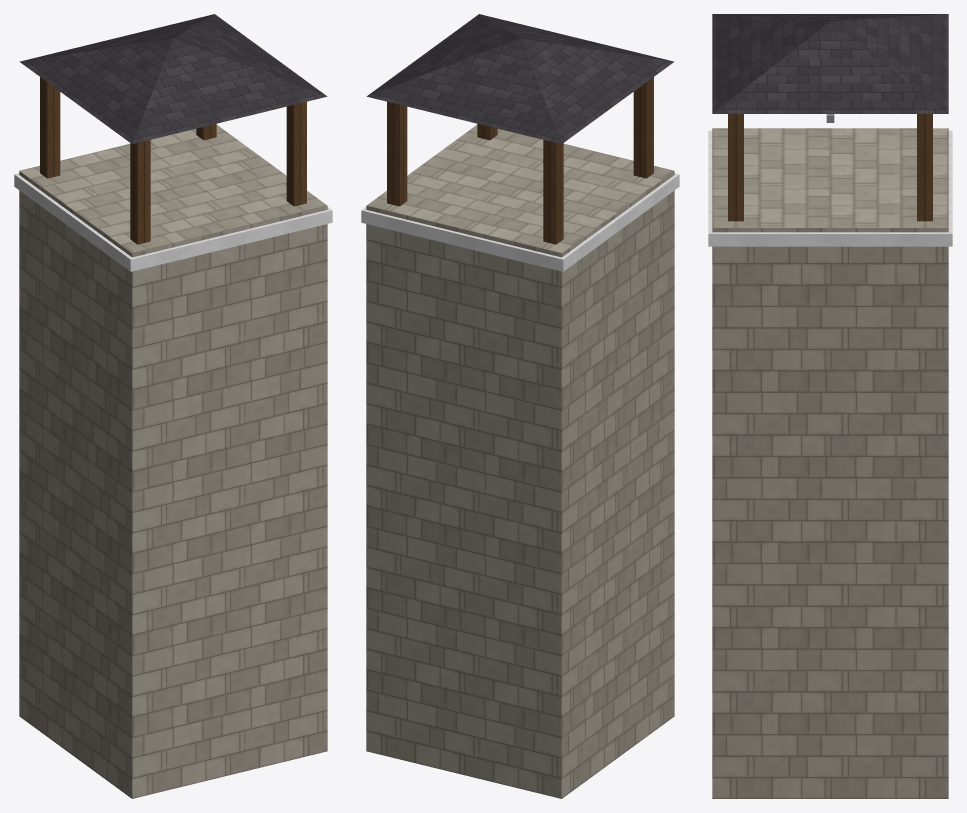
File: tower.chronicle.glb
3 views of the same model, side by side, from view 1: azimuth 30°, elevation 25°; view 2: azimuth 150°, elevation 25°; view 3: azimuth 270°, elevation 25° (orthographic). The views are drawn at different scales.
Parts seen in each view (by area): view 1: town.tower.chronicle; view 2: town.tower.chronicle; view 3: town.tower.chronicle.
Boxes of the visible parts, bbox=[...] form: town.tower.chronicle: bbox=[14, 14, 332, 798]; town.tower.chronicle: bbox=[361, 14, 679, 798]; town.tower.chronicle: bbox=[708, 14, 952, 798].
Size of the model in its own units: 3.1 by 10.2 by 3.1.
Materials: 5 (5 with a texture image).
